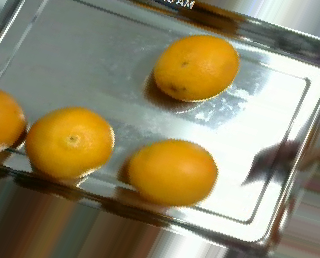Orange: (25, 106, 114, 179), (125, 138, 218, 207), (153, 34, 239, 101)
